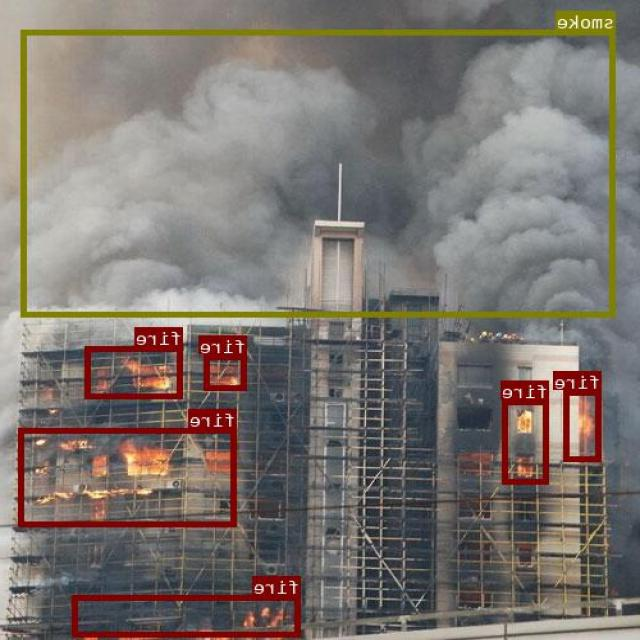fire: (20, 427, 238, 526), (74, 594, 302, 636), (87, 345, 183, 398), (504, 399, 550, 484), (565, 389, 602, 461), (205, 354, 248, 389)
smoke: (22, 29, 616, 315)
